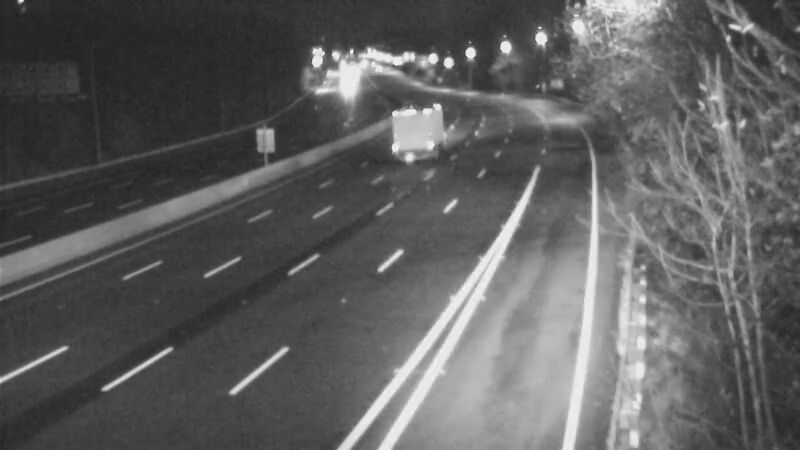vehicle: (397, 104, 447, 154), (321, 57, 371, 107)
